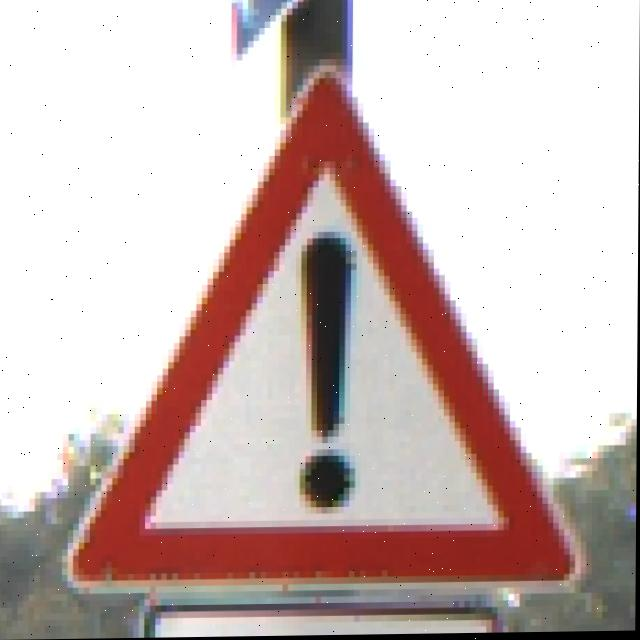warning: (141, 93, 558, 577)
